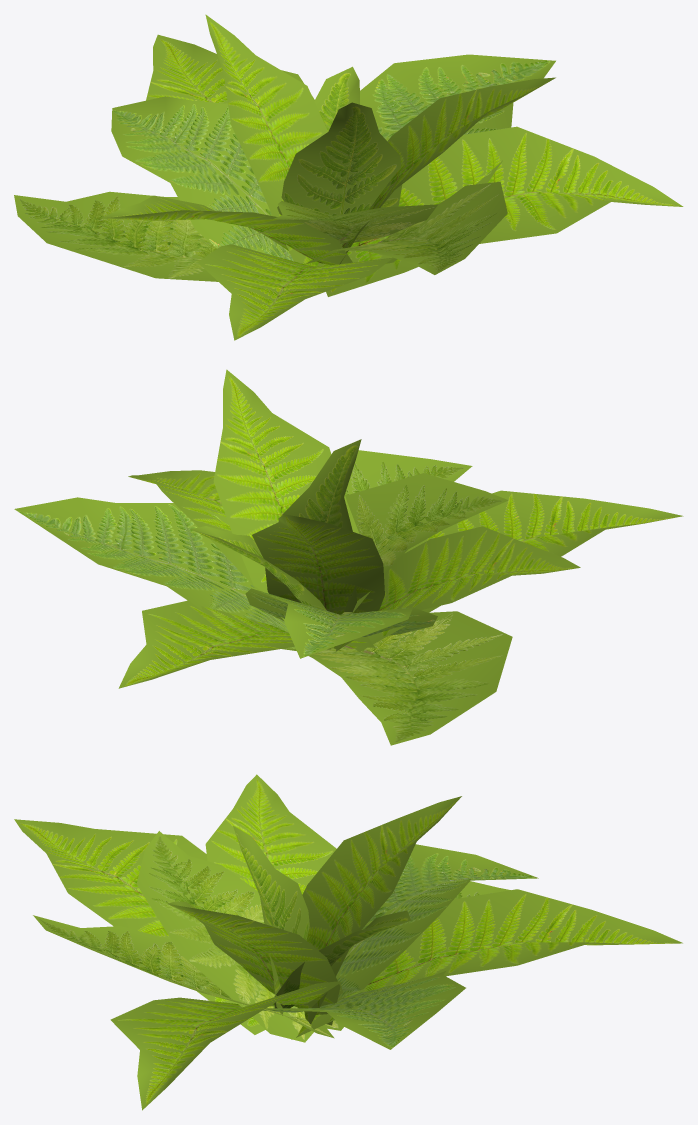
Rendered from Fern_02.fbx.
3 renders of one model, top to bottom at view 1: azimuth 30°, elevation 25°; view 2: azimuth 150°, elevation 25°; view 3: azimuth 270°, elevation 25°, orthographic. The views are drawn at different scales.
Visible parts, largest first — view 1: Fern_02; view 2: Fern_02; view 3: Fern_02.
Part boxes in pixels (bbox=[...]): Fern_02: bbox=[14, 14, 683, 340]; Fern_02: bbox=[14, 369, 683, 745]; Fern_02: bbox=[14, 774, 682, 1110].
Bounding box in the file's own units: 1.69 × 0.6343 × 1.84.
Materials: 1 (1 with a texture image).
